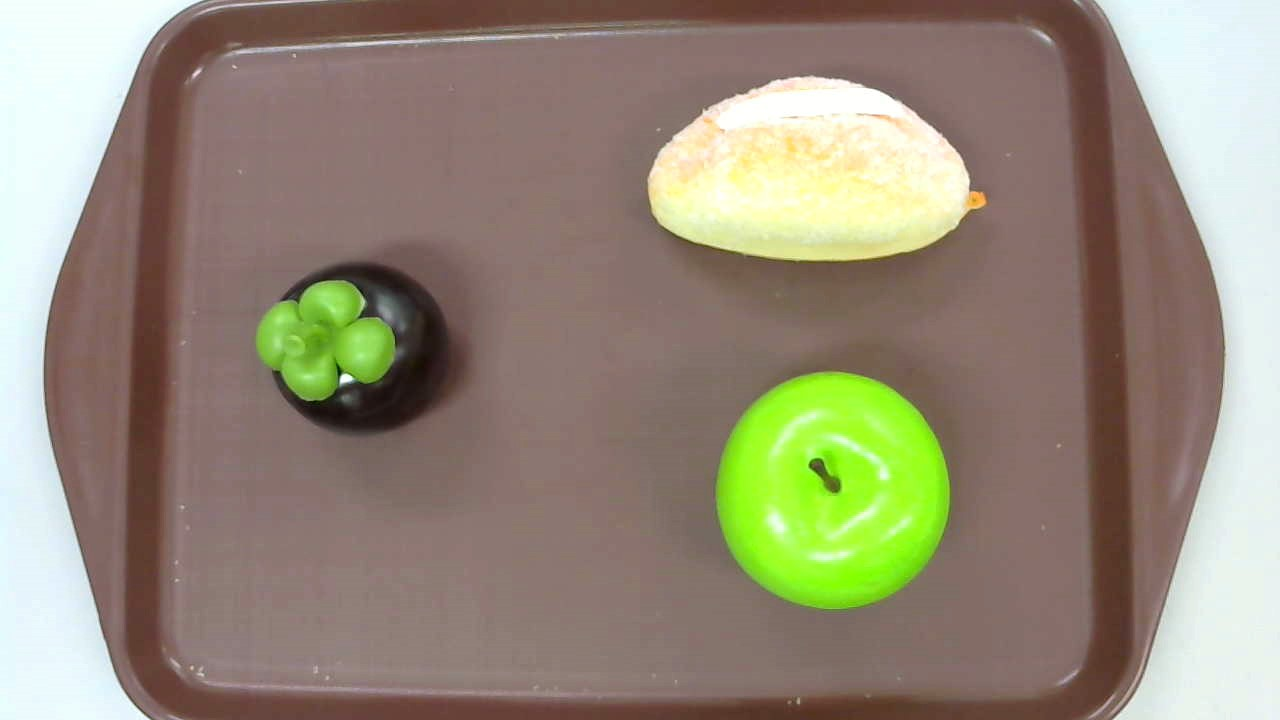coconut: (647, 75, 985, 263)
green apple: (714, 370, 951, 610)
mangosteen: (254, 259, 450, 437)
